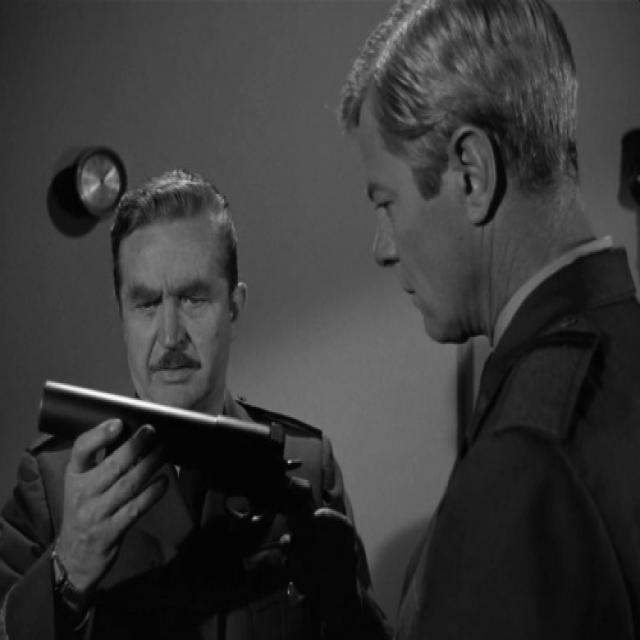weapons: (23, 366, 331, 556)
